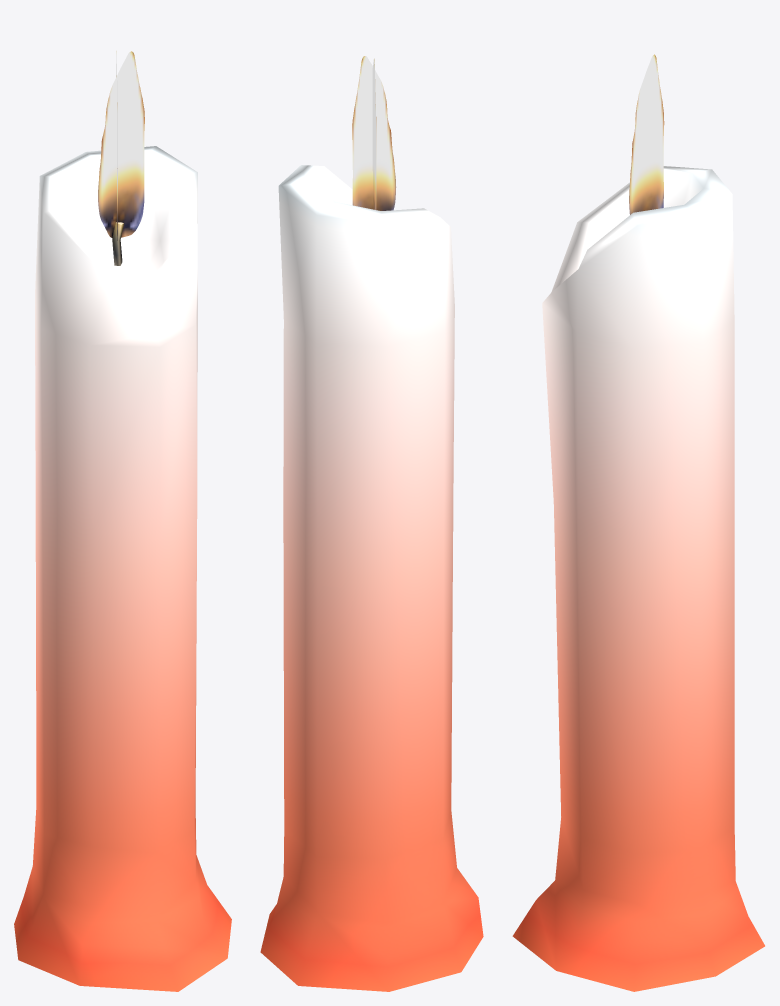
Rendered from CandleShapeA.018.glb.
3 views of the same model, side by side, from view 1: azimuth 30°, elevation 25°; view 2: azimuth 150°, elevation 25°; view 3: azimuth 270°, elevation 25° (orthographic).
Parts seen in each view (by area): view 1: CandleShapeA.018; view 2: CandleShapeA.018; view 3: CandleShapeA.018.
Boxes of the visible parts, <box> form: CandleShapeA.018: <box>14,51,231,991</box>; CandleShapeA.018: <box>260,56,483,991</box>; CandleShapeA.018: <box>512,54,764,991</box>.
Bounding box in the file's own units: 0.0814 × 0.3472 × 0.0887.
Materials: 2 (2 with a texture image).
